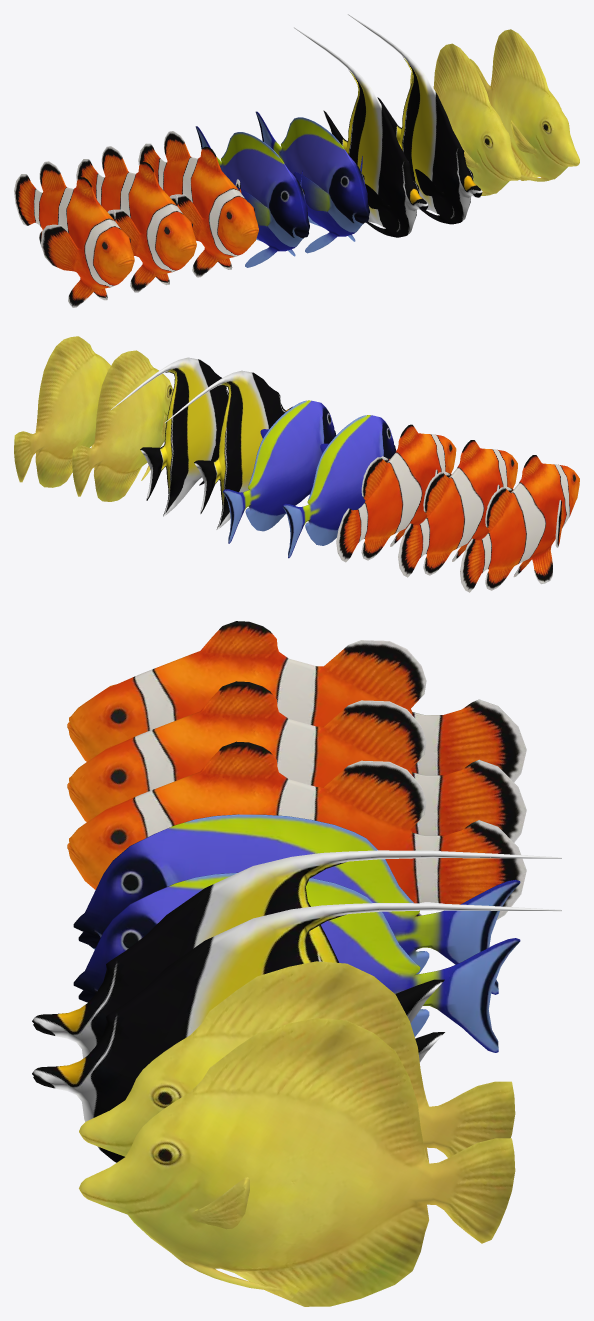
File: babylon-fish-unskinned.glb
3 renders of one model, top to bottom at view 1: azimuth 30°, elevation 25°; view 2: azimuth 150°, elevation 25°; view 3: azimuth 270°, elevation 25°, orthographic. The views are drawn at different scales.
Visible parts, largest first — view 1: all_fish1.2.mesh, all_fish1.2.mesh.3, all_fish1.2.mesh.2, all_fish1.2.mesh.1; view 2: all_fish1.2.mesh, all_fish1.2.mesh.3, all_fish1.2.mesh.1, all_fish1.2.mesh.2; view 3: all_fish1.2.mesh.3, all_fish1.2.mesh, all_fish1.2.mesh.2, all_fish1.2.mesh.1.
Boxes of the visible parts, x1,y1,x2,y2 form: all_fish1.2.mesh: [14, 131, 258, 307]; all_fish1.2.mesh.3: [410, 29, 579, 195]; all_fish1.2.mesh.2: [294, 14, 482, 237]; all_fish1.2.mesh.1: [195, 111, 369, 267]; all_fish1.2.mesh: [336, 424, 579, 592]; all_fish1.2.mesh.3: [14, 336, 173, 501]; all_fish1.2.mesh.1: [223, 400, 395, 558]; all_fish1.2.mesh.2: [111, 357, 292, 529]; all_fish1.2.mesh.3: [79, 961, 515, 1306]; all_fish1.2.mesh: [67, 621, 526, 919]; all_fish1.2.mesh.2: [32, 850, 561, 1162]; all_fish1.2.mesh.1: [73, 814, 520, 1052].
Size of the model in its own units: 18.04 by 5.05 by 8.13.
4 materials, 4 textured.
